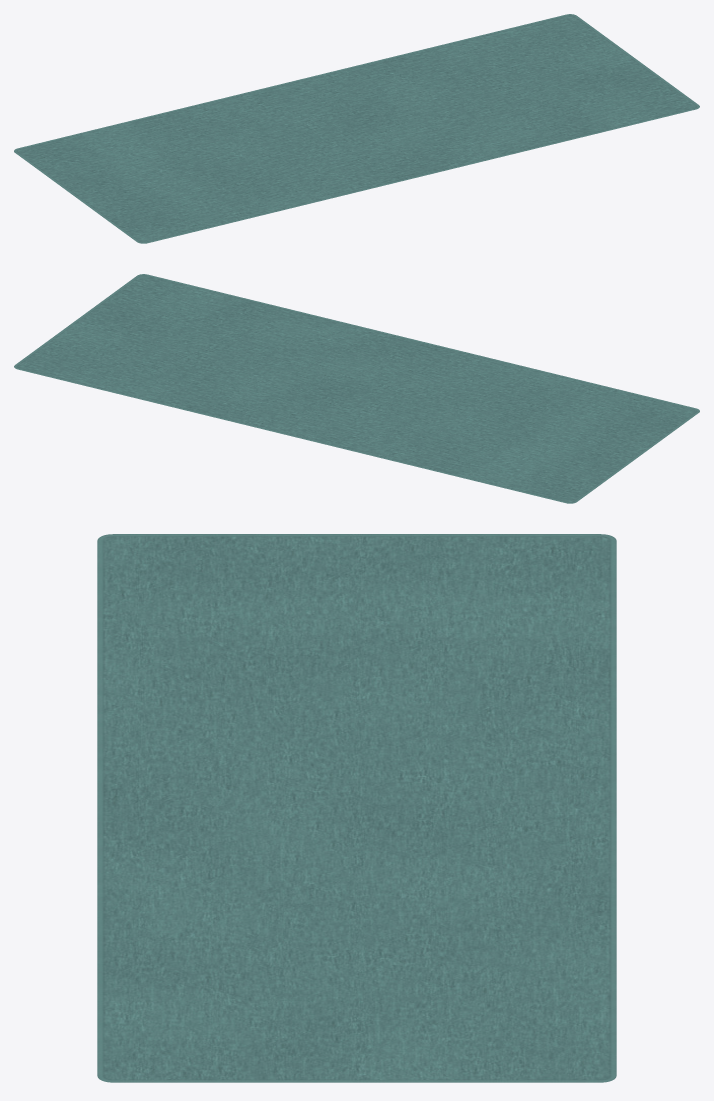
The model's file is green_hall_r90.glb.
The picture shows the model from 3 angles, top to bottom: view 1: azimuth 30°, elevation 25°; view 2: azimuth 150°, elevation 25°; view 3: azimuth 270°, elevation 25°; orthographic projection. The views are drawn at different scales.
Visible parts, largest first — view 1: reliv_green_hall_r90; view 2: reliv_green_hall_r90; view 3: reliv_green_hall_r90.
Boxes of the visible parts, x1=… form: reliv_green_hall_r90: x1=14, y1=14, x2=699, y2=243; reliv_green_hall_r90: x1=14, y1=274, x2=699, y2=503; reliv_green_hall_r90: x1=97, y1=534, x2=616, y2=1082.
Bounding box in the file's own units: 2.5 × 0.009 × 1.
Materials: 2 (1 with a texture image).
